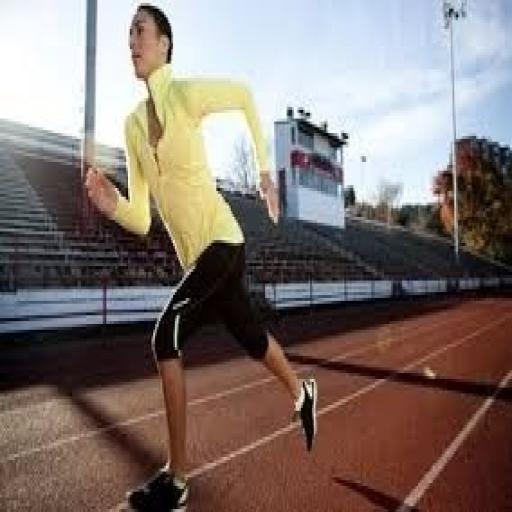running: (81, 3, 323, 509)
